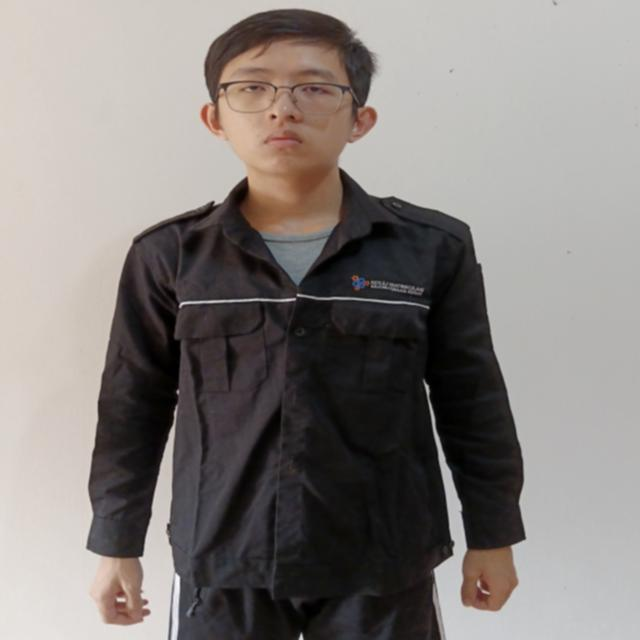person_with_labcoat: (88, 9, 524, 640)
